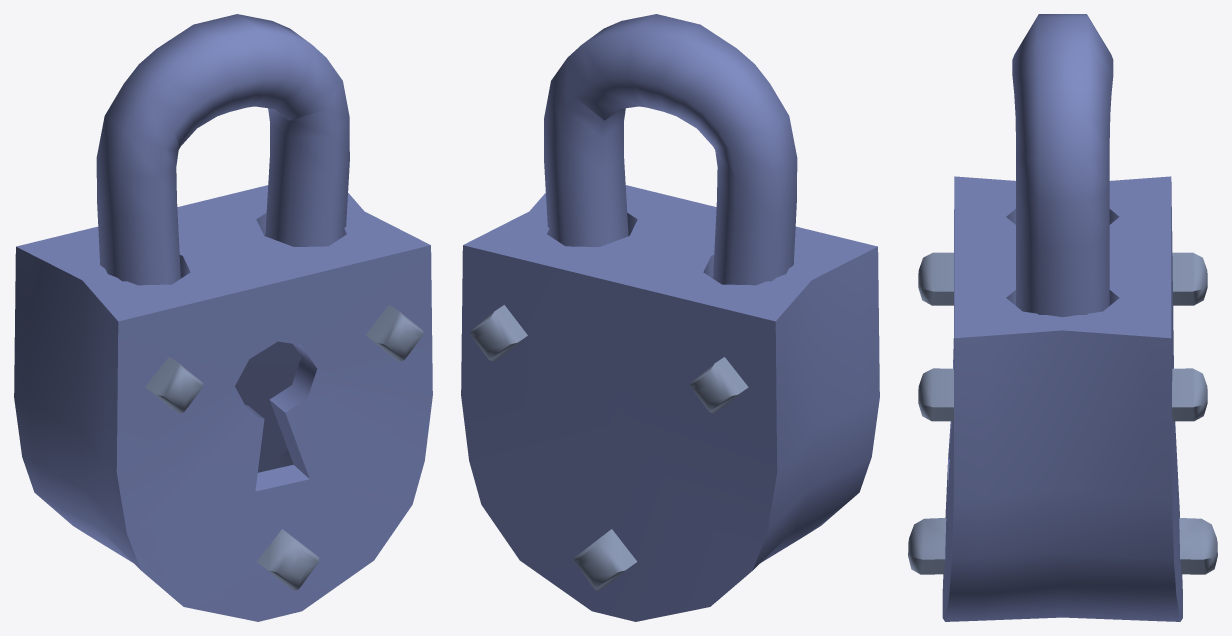
Rendered from lock.fbx.
3 views of the same model, side by side, from view 1: azimuth 30°, elevation 25°; view 2: azimuth 150°, elevation 25°; view 3: azimuth 270°, elevation 25° (orthographic). The views are drawn at different scales.
Visible parts, largest first — view 1: lock; view 2: lock; view 3: lock.
Part boxes in pixels (x1,y1,x2,y2): lock: [14, 14, 432, 621]; lock: [461, 14, 879, 621]; lock: [908, 14, 1217, 621].
Bounding box in the file's own units: 16.78 × 27.71 × 13.43.
